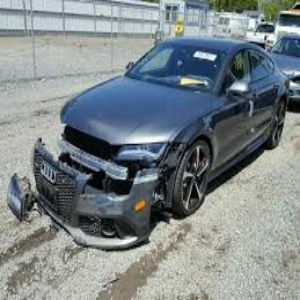bumper: (97, 148, 177, 227)
head_lights: (89, 94, 151, 147)
